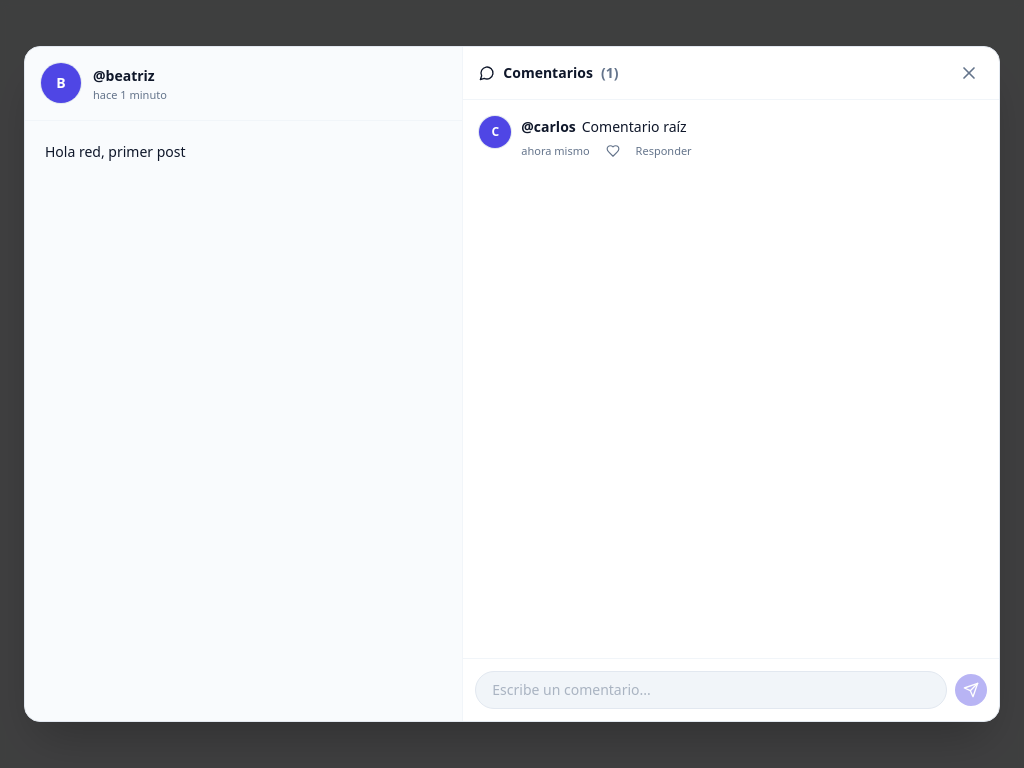
Test: ComentariosModal › responde a un comentario enviando el parentId de la raíz
Expected: the text "Comentario raíz" is shown, left=582, top=117, right=687, bottom=136
Click the button "Responder" at (664,151), box left=636, top=143, right=692, bottom=159
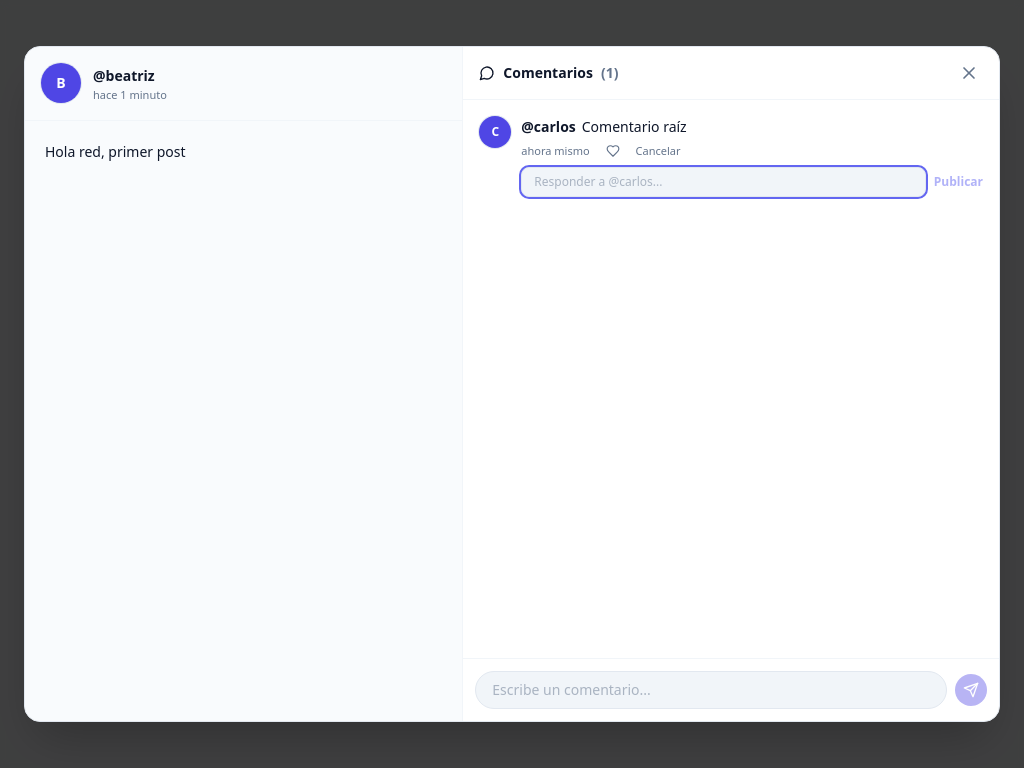
Type "Mi respuesta" into the field with placeholder "Responder a @carlos..." at (724,182), box left=521, top=167, right=926, bottom=197
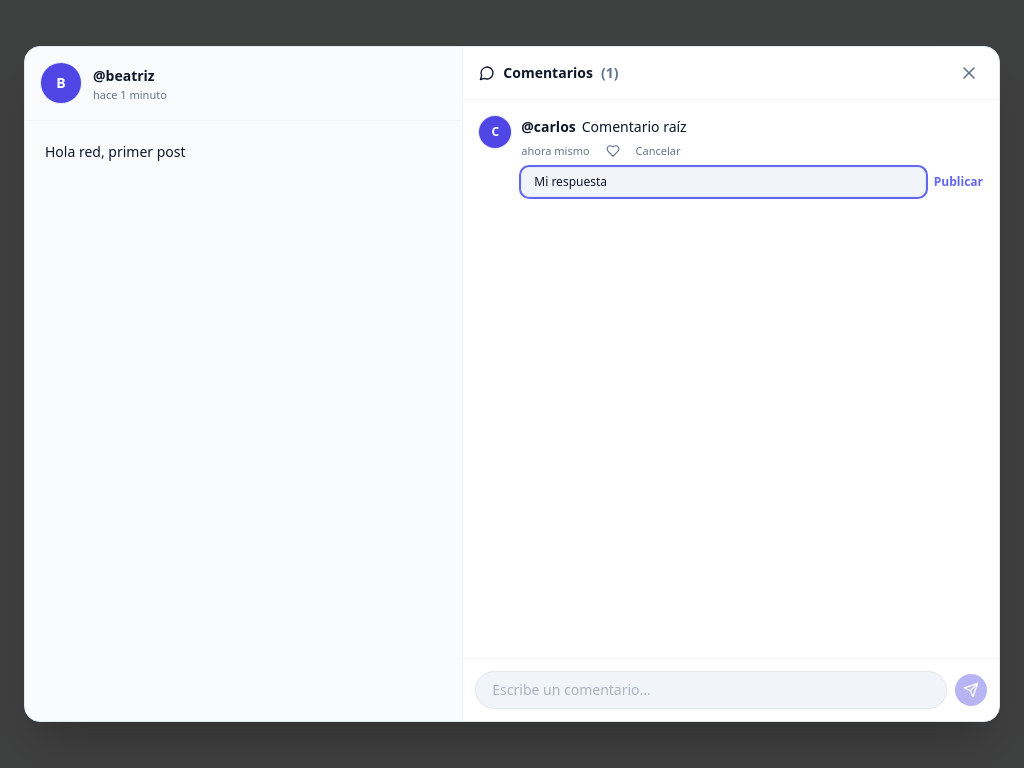
Click the button "Publicar" at (958,182), box left=934, top=174, right=983, bottom=190
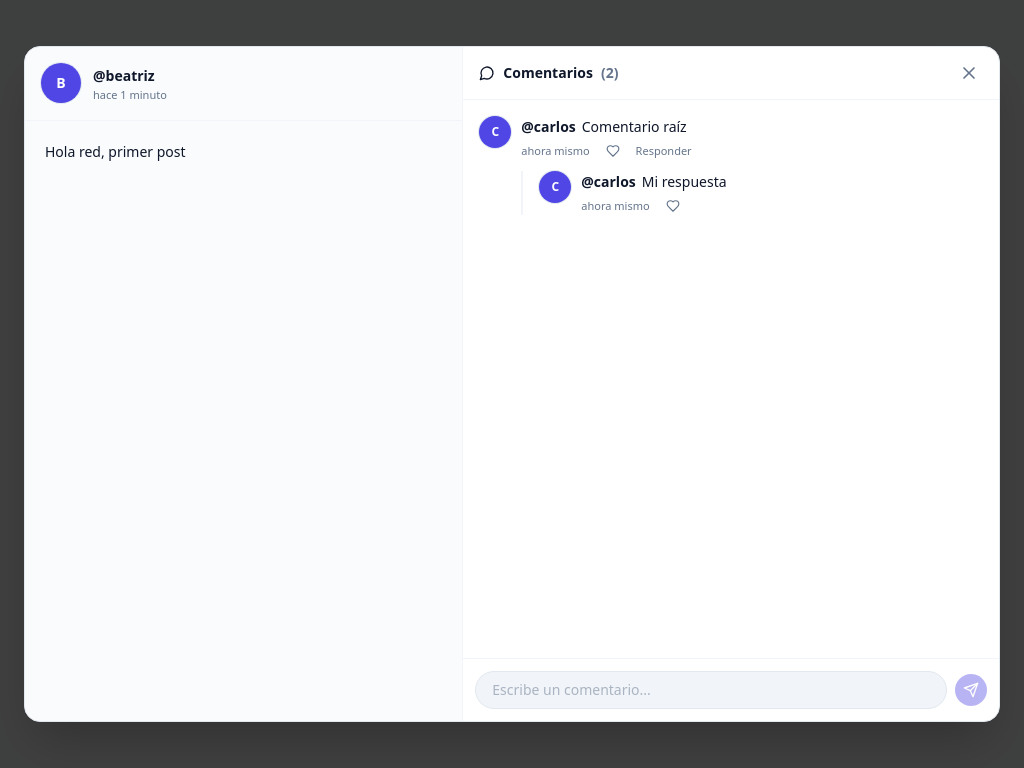
Now the text "Mi respuesta" is shown, box left=642, top=172, right=727, bottom=191
